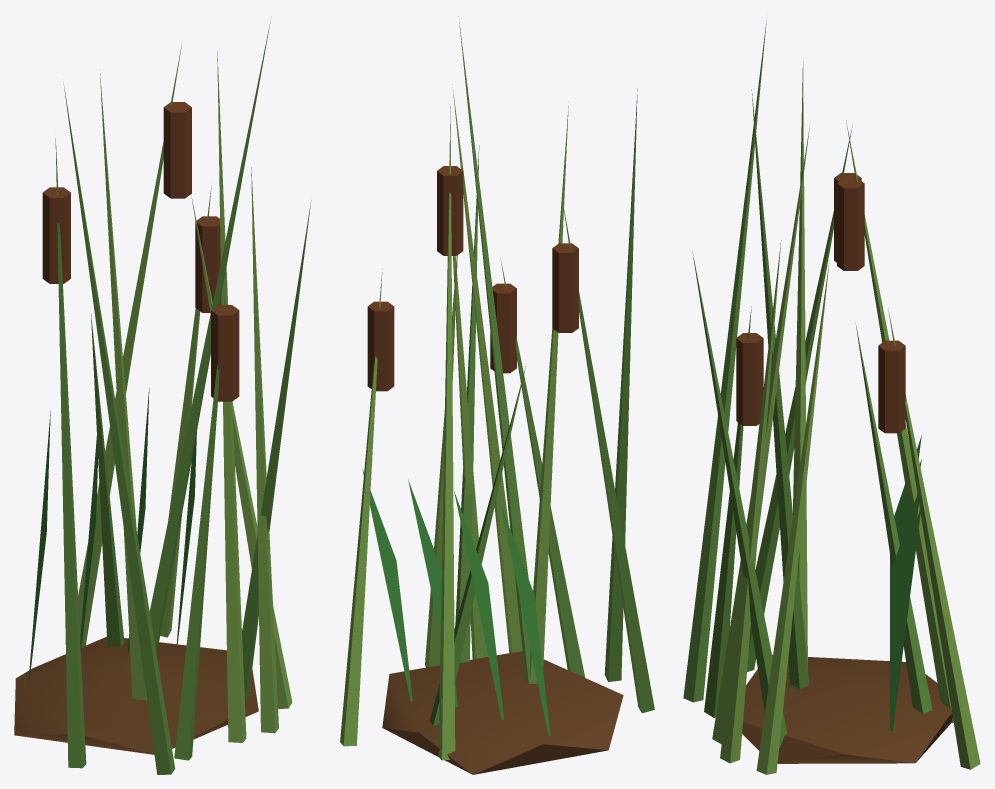
The model's file is reeds.glb.
3 views of the same model, side by side, from view 1: azimuth 30°, elevation 25°; view 2: azimuth 150°, elevation 25°; view 3: azimuth 270°, elevation 25° (orthographic). The views are drawn at different scales.
Visible parts, largest first — view 1: reeds, reeds_craft; view 2: reeds, reeds_craft; view 3: reeds, reeds_craft.
Boxes of the visible parts, x1,y1,x2,y2 form: reeds: [14, 19, 311, 774]; reeds_craft: [28, 388, 196, 684]; reeds: [340, 16, 654, 774]; reeds_craft: [362, 469, 550, 735]; reeds: [683, 18, 980, 774]; reeds_craft: [890, 436, 921, 731].
Size of the model in its own units: 0.5785 by 1.64 by 0.6505.
